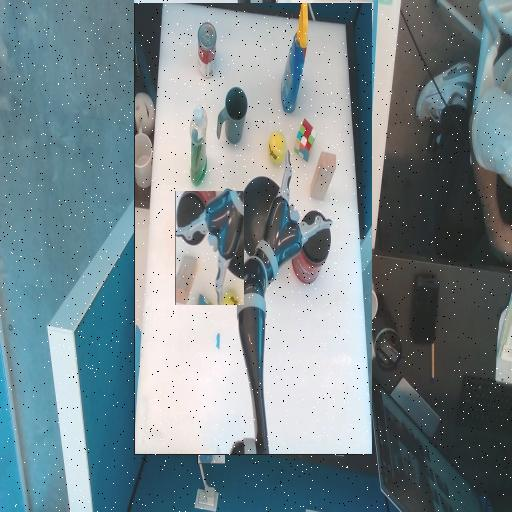bowl: (218, 194, 268, 279)
cleanser: (300, 271, 316, 351)
coffee_can: (175, 190, 214, 228)
jaco: (175, 191, 244, 305)
meat_can: (267, 230, 289, 251)
mug: (259, 313, 289, 369)
mustard_bottle: (306, 195, 324, 263)
rubik: (190, 305, 212, 327)
soup_can: (290, 379, 308, 434)
tennis_ball: (221, 300, 238, 317)
windex: (198, 345, 225, 463)
wooden_block: (170, 268, 195, 293)
workspace: (134, 3, 372, 454)
